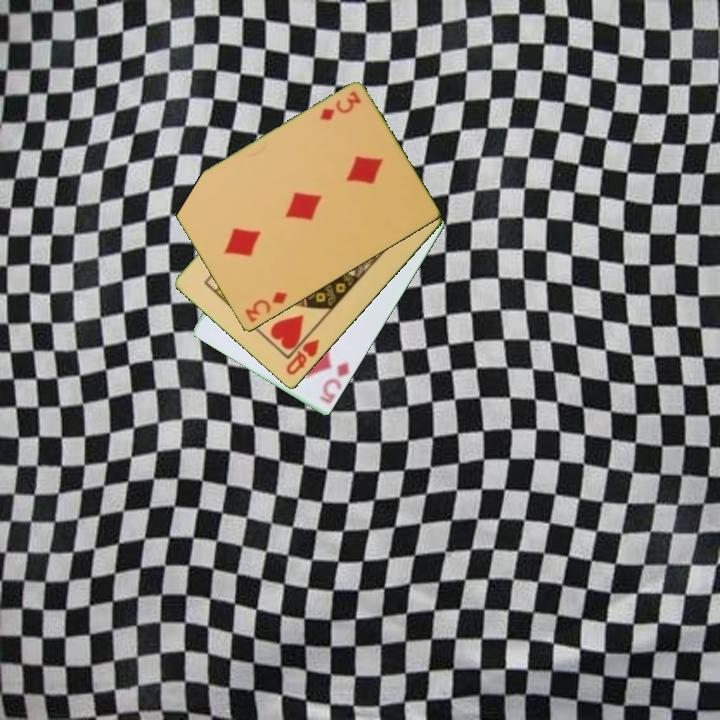3d: (241, 288, 290, 326), (316, 88, 364, 124)
5d: (316, 359, 352, 407)
Qh: (282, 336, 322, 378)
